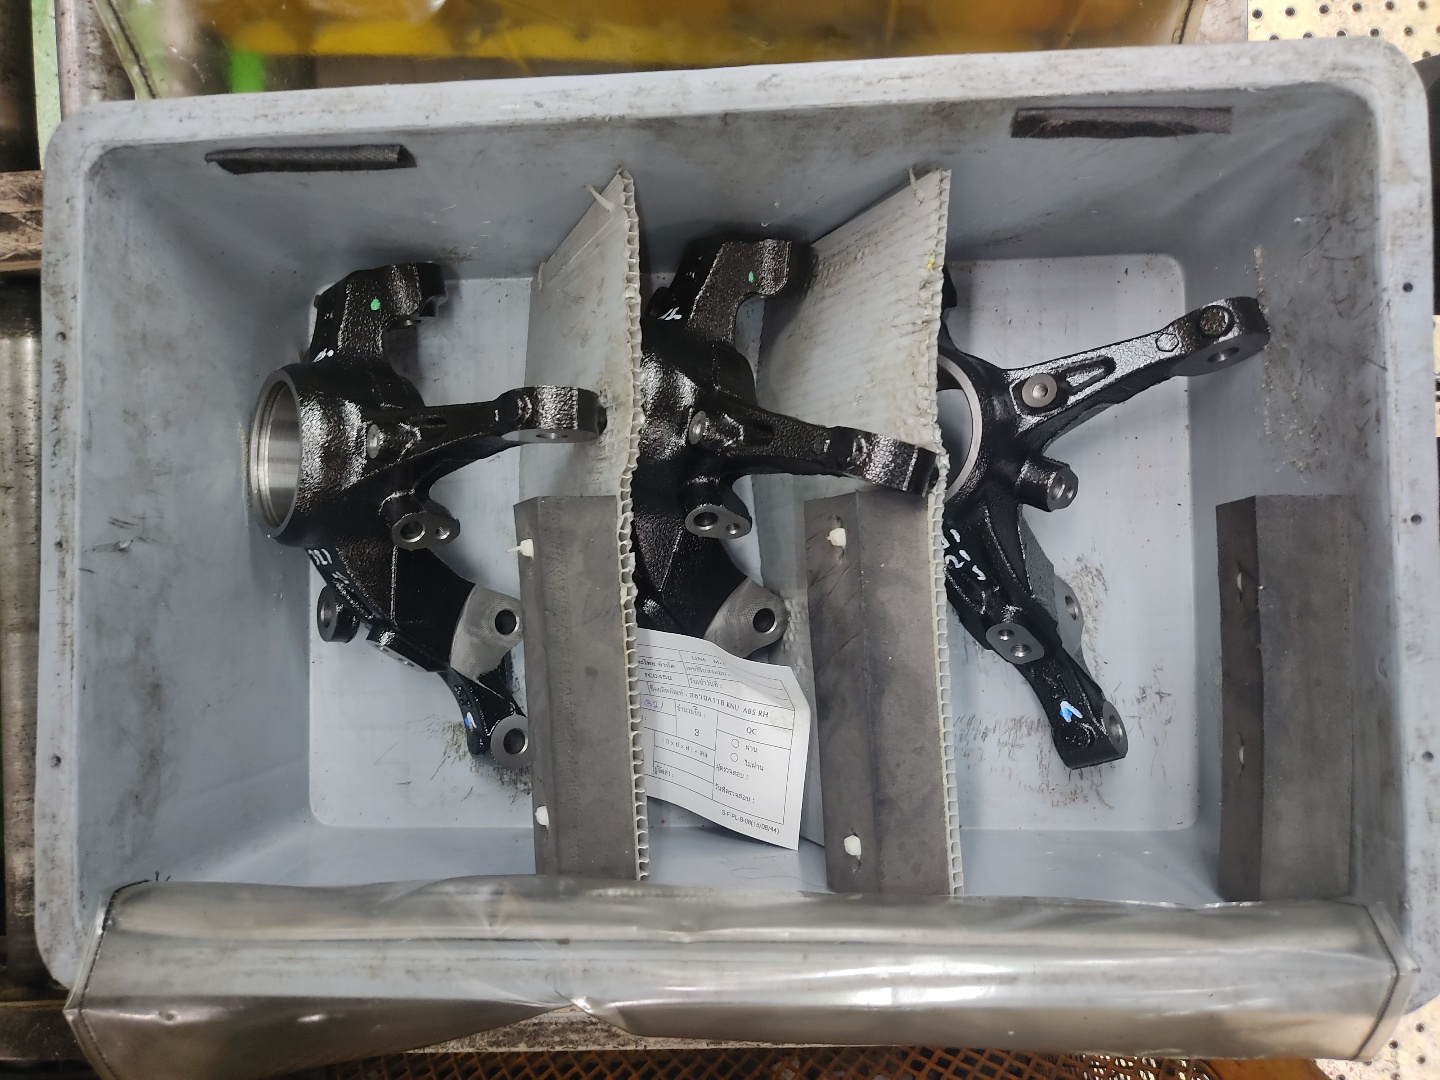abs-rh: (235, 253, 605, 785), (929, 239, 1271, 778), (608, 221, 942, 743)
